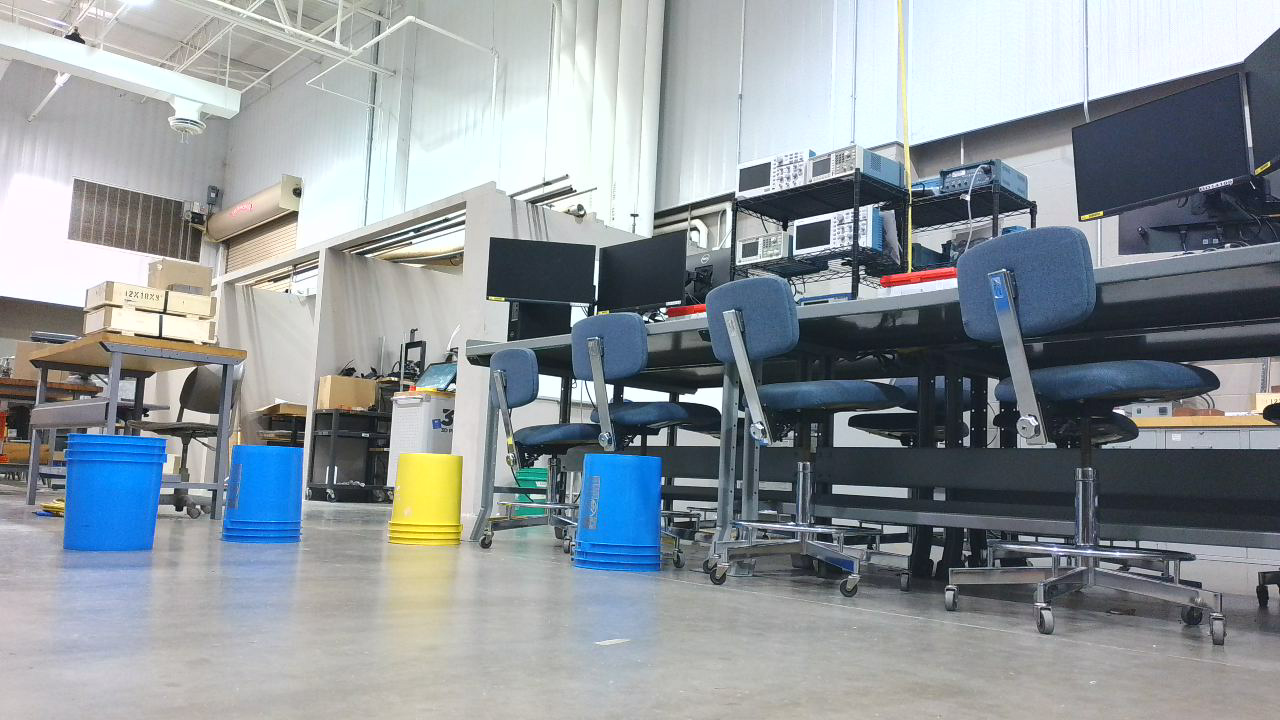blue_bucket: (62, 435, 175, 561), (575, 454, 672, 581), (219, 446, 314, 552)
yellow_bucket: (390, 454, 472, 555)
